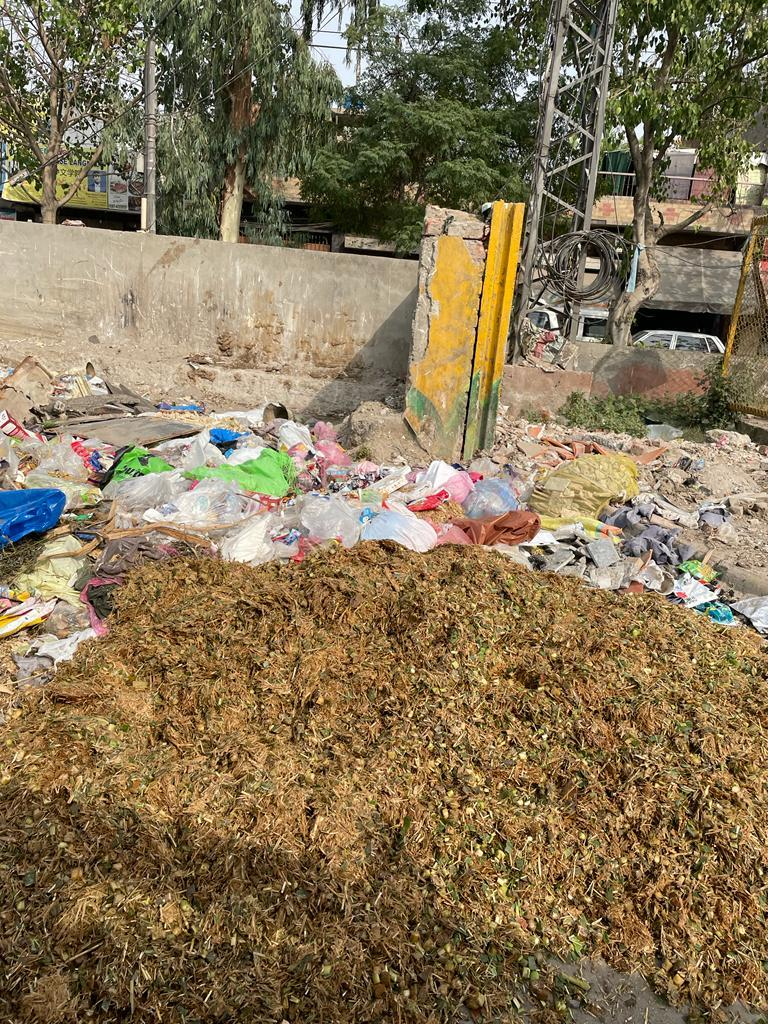garbage: (1, 376, 768, 690)
